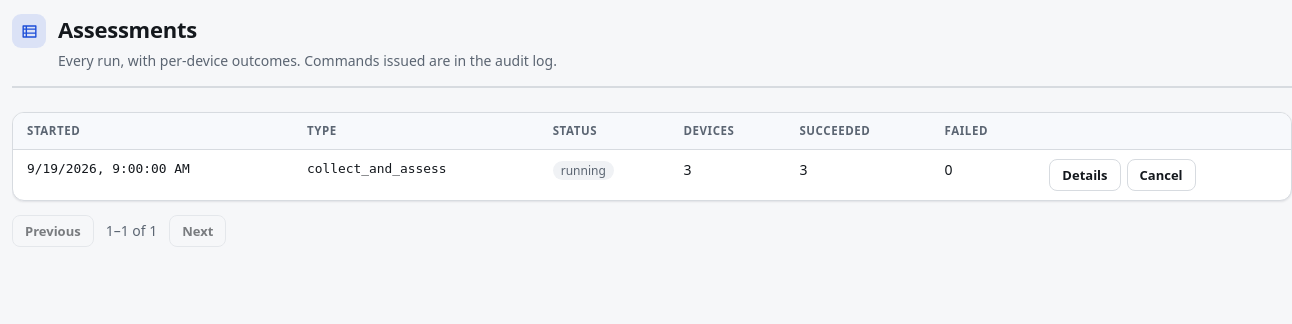
Scenario: JobsPage › cancel › reports a cancel that the API refused
Click the button "Cancel". click: (1161, 175)
box: [1126, 159, 1196, 191]
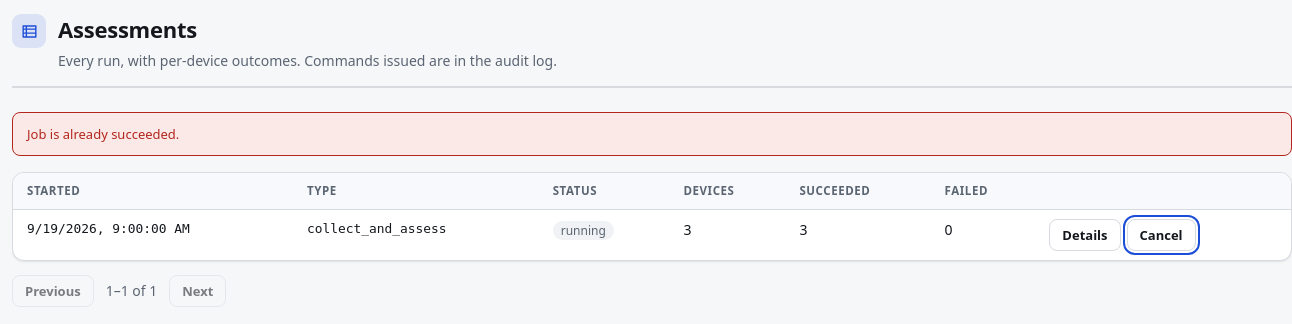
Expected: the message reads "Job is already succeeded.", [27, 125, 179, 143]
